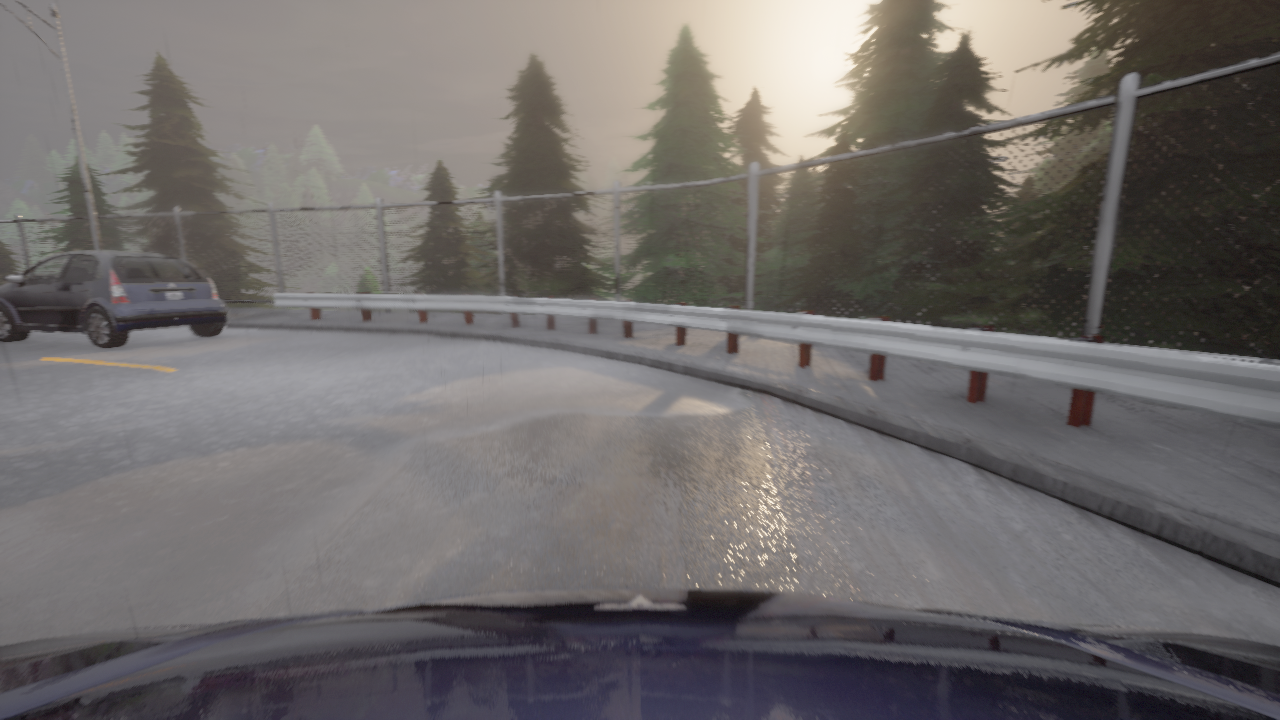cyclist: (0, 588, 1279, 719), (0, 251, 227, 348)
